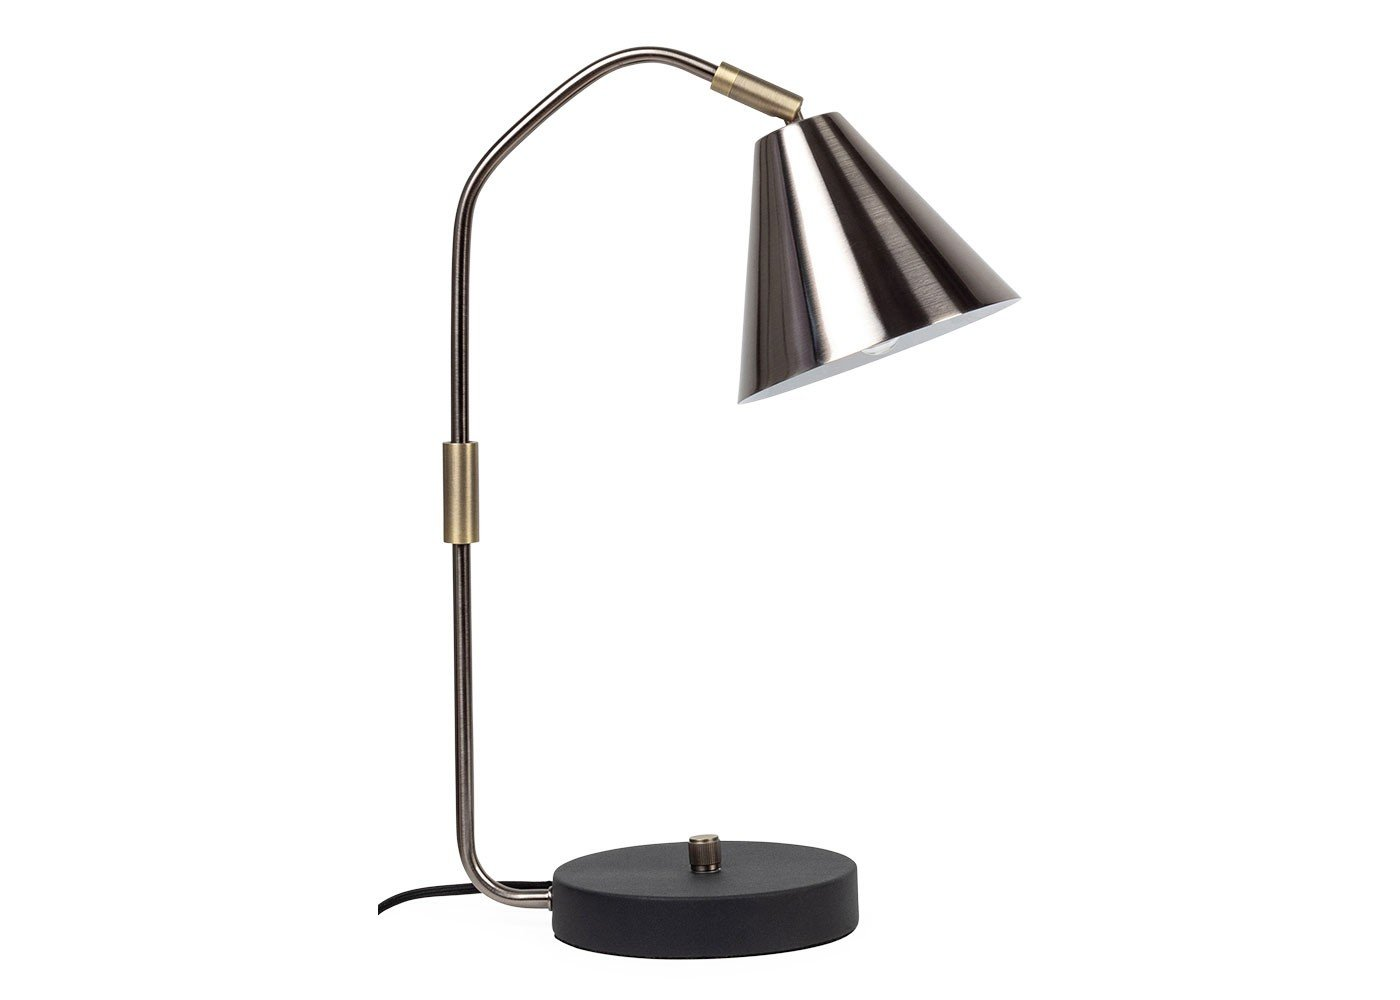lampu: (441, 36, 1011, 958)
